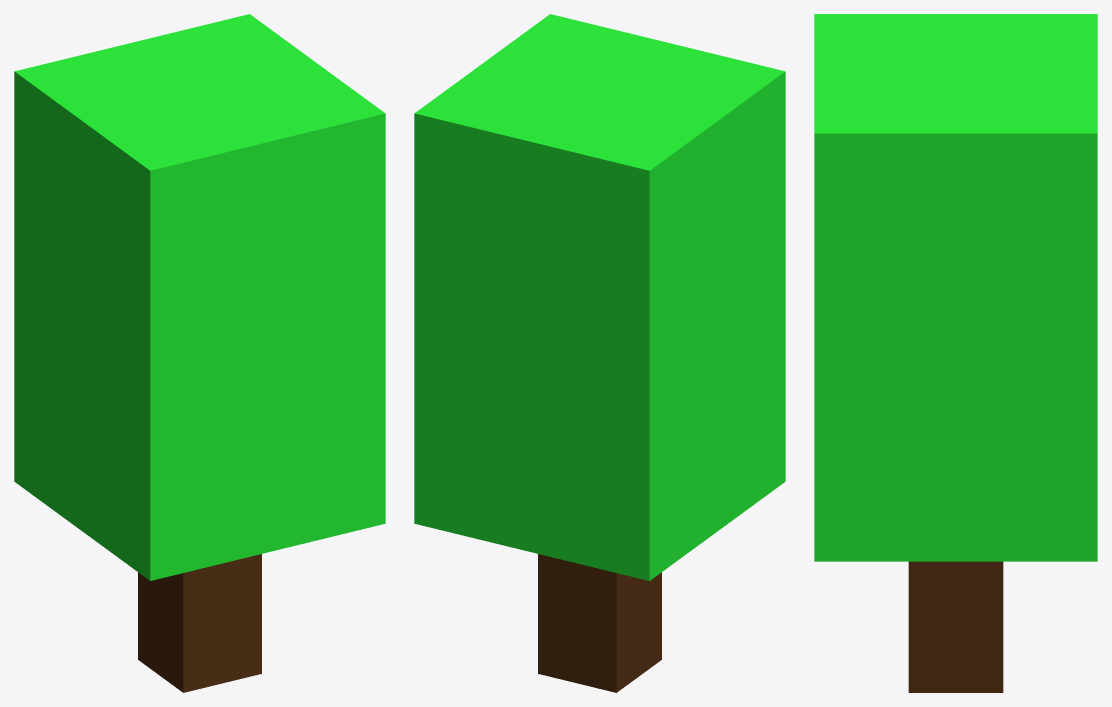
Rendered from Berry_Bush_(Stage 4).obj.
3 renders of one model, left to right at view 1: azimuth 30°, elevation 25°; view 2: azimuth 150°, elevation 25°; view 3: azimuth 270°, elevation 25°, orthographic. The views are drawn at different scales.
Bounding box in the file's own units: 0.3 × 0.7 × 0.3.
1 material, 1 textured.
